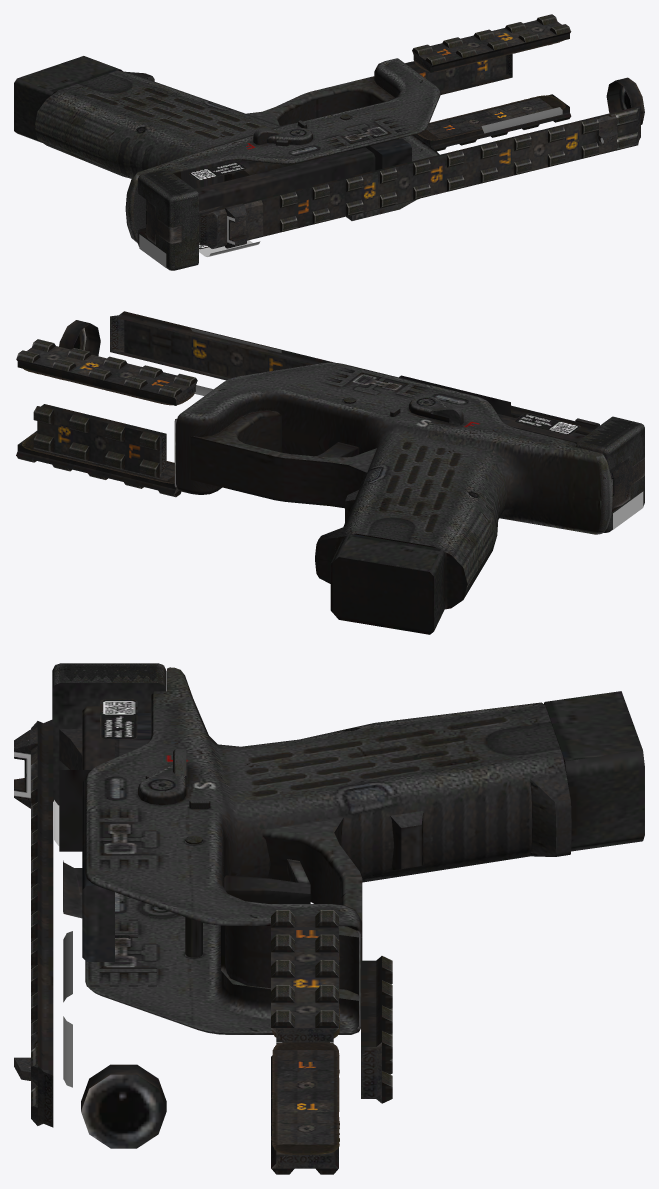
The model's file is t6_wpn_pistol_kard_view_lh_LOD0.obj.
3 views of the same model, one above another, from view 1: azimuth 30°, elevation 25°; view 2: azimuth 150°, elevation 25°; view 3: azimuth 270°, elevation 25° (orthographic). The views are drawn at different scales.
Parts seen in each view (by area): view 1: mtl_t6_wpn_pistol_kard, mtl_t6_wpn_pistol_kard_camo3, mtl_t6_wpn_pistol_kard_camo1, mtl_t6_wpn_pistol_kard_camo2, mtl_clan_tag; view 2: mtl_t6_wpn_pistol_kard, mtl_t6_wpn_pistol_kard_camo3, mtl_t6_wpn_pistol_kard_camo2, mtl_t6_wpn_pistol_kard_camo1, mtl_clan_tag; view 3: mtl_t6_wpn_pistol_kard, mtl_t6_wpn_pistol_kard_camo3, mtl_t6_wpn_pistol_kard_camo1, mtl_t6_wpn_pistol_kard_camo2.
Boxes of the visible parts, x1,y1,x2,y2 form: mtl_t6_wpn_pistol_kard: (34,14,640,270); mtl_t6_wpn_pistol_kard_camo3: (14,56,598,248); mtl_t6_wpn_pistol_kard_camo1: (195,77,644,241); mtl_t6_wpn_pistol_kard_camo2: (146,40,565,249); mtl_clan_tag: (139,234,166,267); mtl_t6_wpn_pistol_kard: (16,311,644,634); mtl_t6_wpn_pistol_kard_camo3: (331,397,638,630); mtl_t6_wpn_pistol_kard_camo2: (22,368,644,508); mtl_t6_wpn_pistol_kard_camo1: (59,320,585,487); mtl_clan_tag: (613,491,643,529); mtl_t6_wpn_pistol_kard: (14,663,571,1174); mtl_t6_wpn_pistol_kard_camo3: (31,663,644,1035); mtl_t6_wpn_pistol_kard_camo1: (59,706,361,1148); mtl_t6_wpn_pistol_kard_camo2: (100,699,339,1154).
Size of the model in its own units: 30.66 by 5.56 by 20.7.
